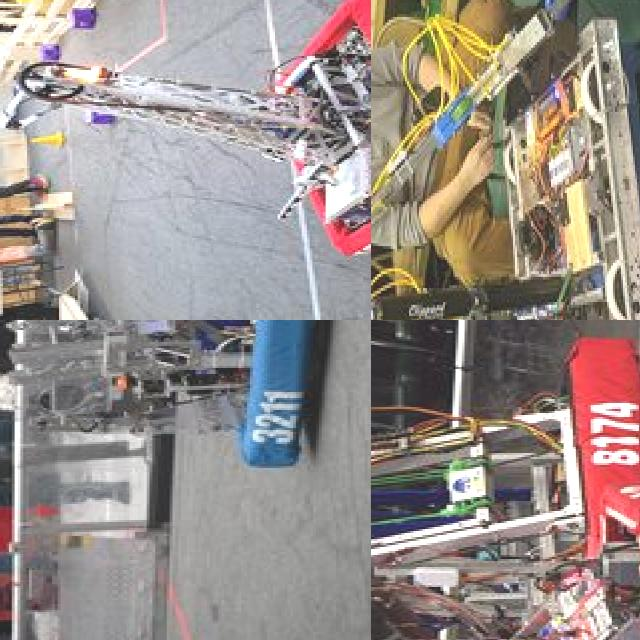FRC-Robots: (23, 0, 371, 259), (371, 0, 640, 320), (0, 320, 346, 530), (371, 320, 640, 581), (371, 482, 640, 640)
